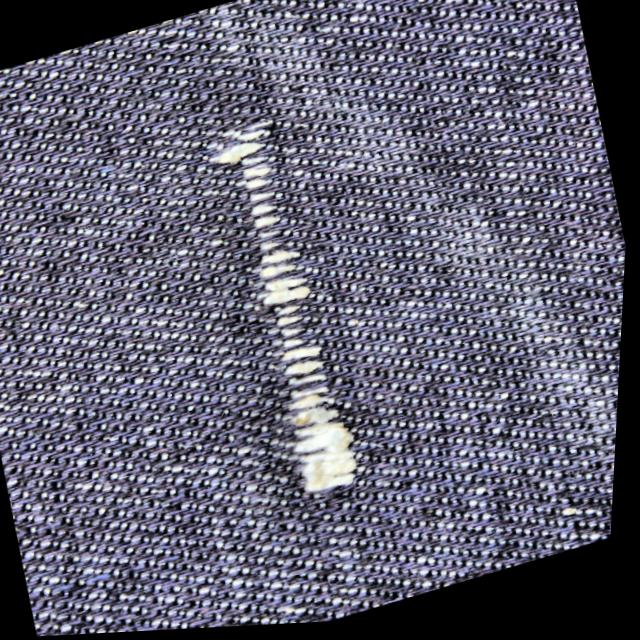Hole: (249, 398, 403, 518), (218, 299, 375, 410), (179, 95, 322, 216), (202, 203, 341, 321)
